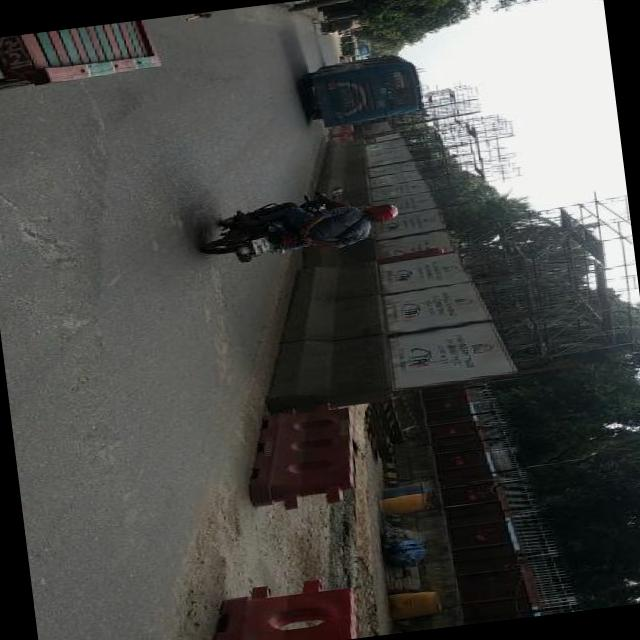bus: (300, 53, 429, 129)
car: (339, 52, 358, 62)
motorcycle: (188, 176, 408, 270), (313, 16, 357, 36), (339, 40, 358, 49), (338, 34, 358, 42), (341, 46, 358, 54)
